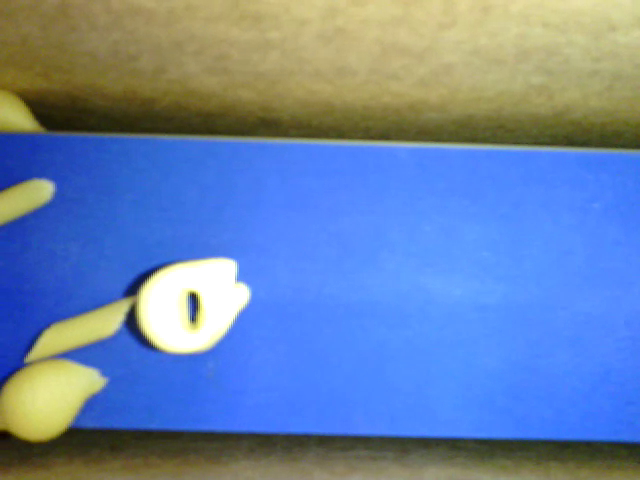penne: (21, 287, 146, 364), (4, 170, 60, 227)
shell: (1, 356, 119, 446), (4, 84, 48, 132)
tortellini: (137, 249, 246, 355)
